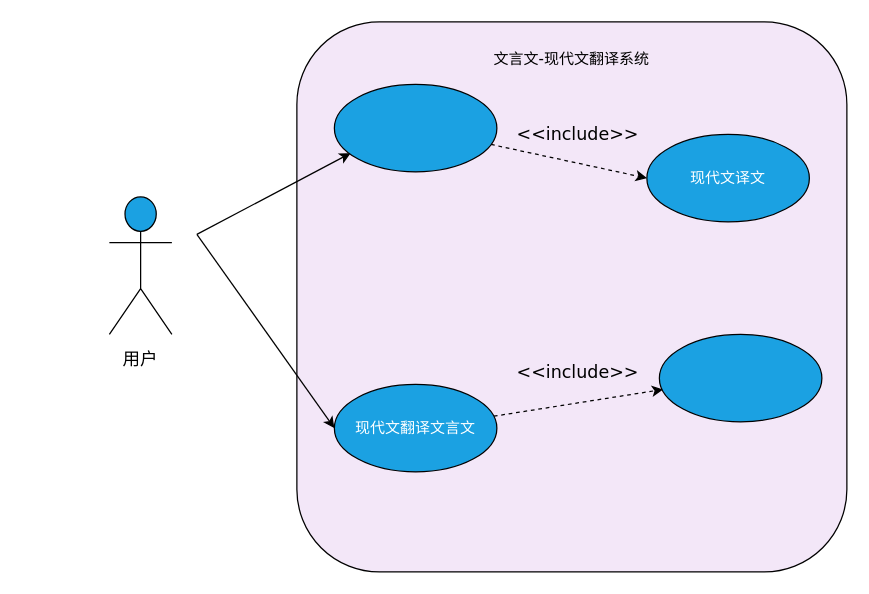
This 869x594 diagram has some shape labels left out. Each missing label, with the centre of its shape:
"文言文翻译现代文" goes at point (415, 127).
"文言文译文" goes at point (740, 377).
